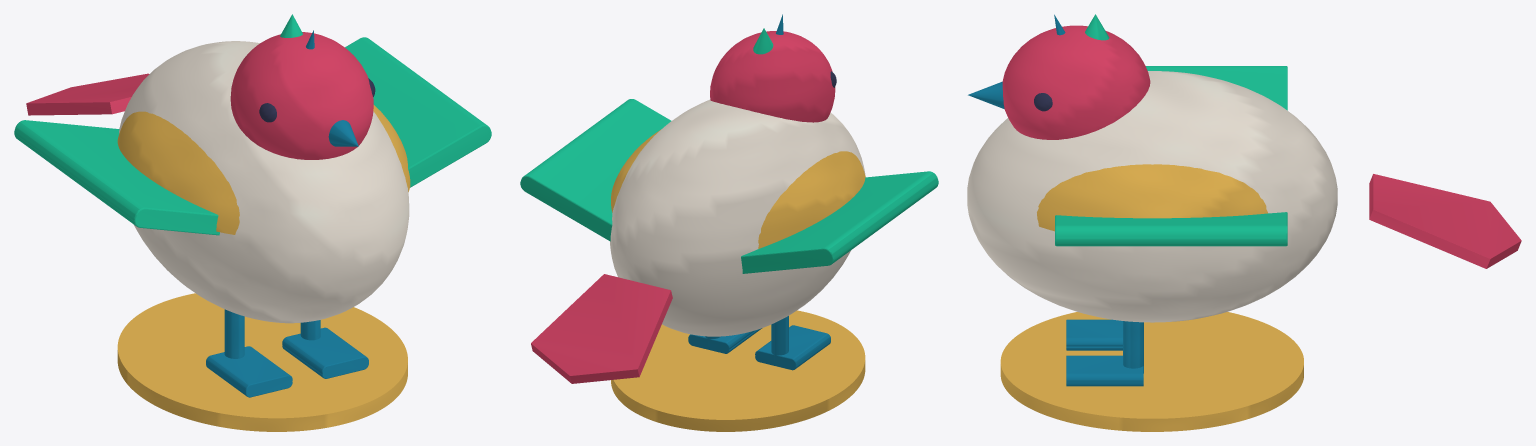
Rendered from 0059_鸟类图鉴_犀鸟.glb.
3 views of the same model, side by side, from view 1: azimuth 30°, elevation 25°; view 2: azimuth 150°, elevation 25°; view 3: azimuth 270°, elevation 25° (orthographic). The views are drawn at different scales.
Visible parts, largest first — view 1: card_0059; view 2: card_0059; view 3: card_0059.
Part boxes in pixels (box(x1,y1,x2,y2)): card_0059: box(14, 14, 491, 431); card_0059: box(520, 14, 938, 431); card_0059: box(967, 14, 1521, 431).
Size of the model in its own units: 0.9984 by 1 by 1.39.
